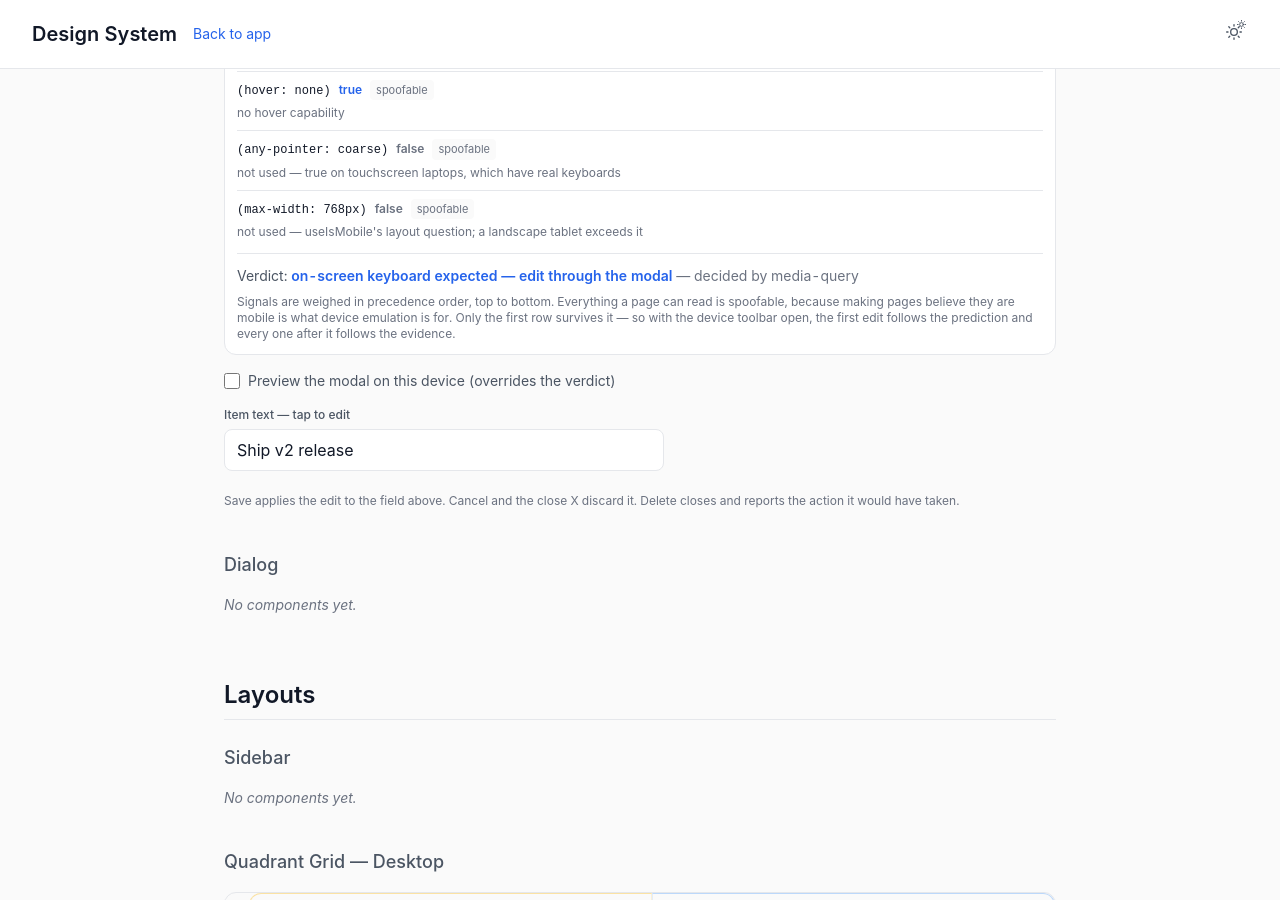
it: DesignSystem — Edit Modal gated on on-screen-keyboard detection › opens the modal where an on-screen keyboard is expected
(page scrolled)
Click the field labelled "Item text — tap to edit": coordinates (444, 450) [224,429,664,471]
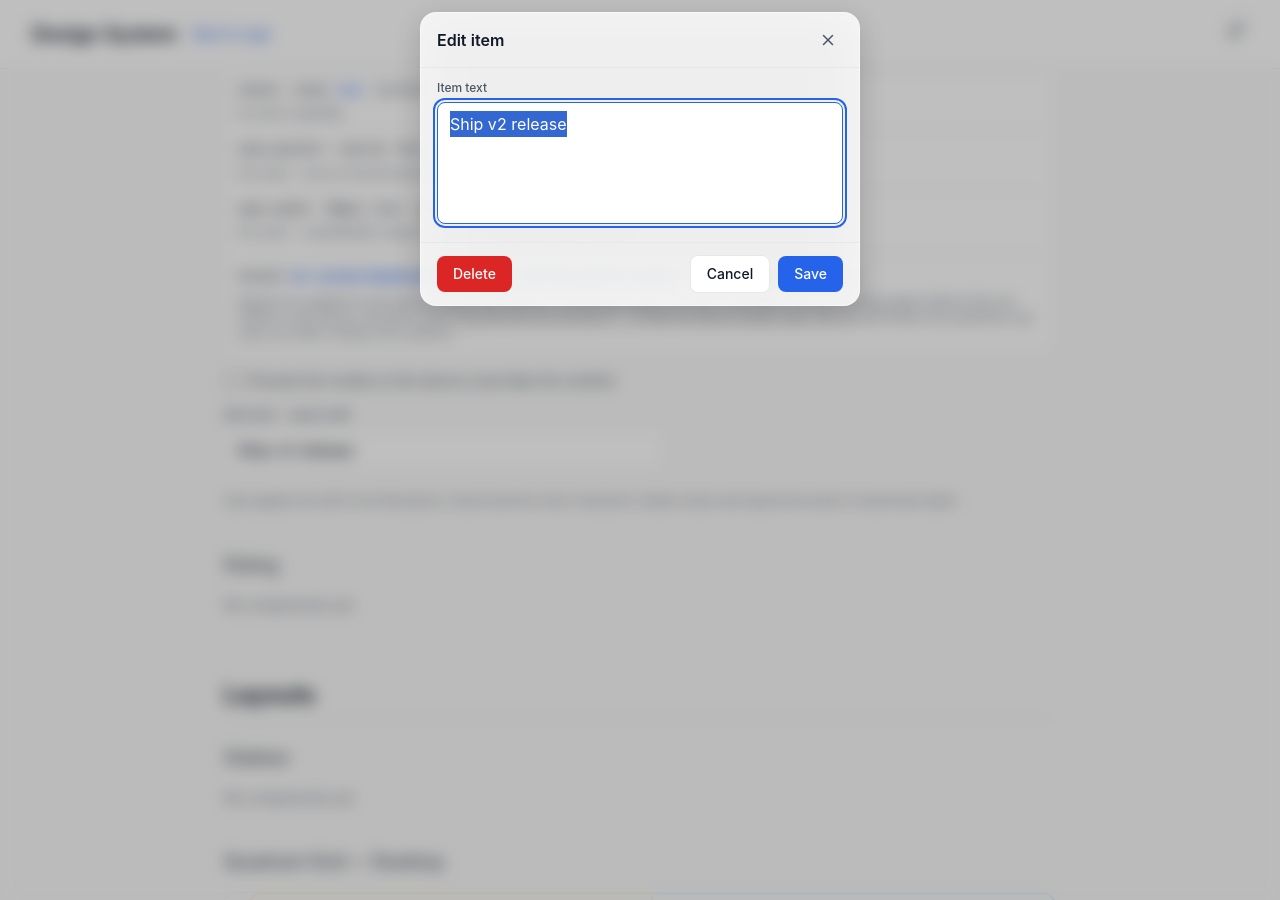
expect the dialog "Edit item" is shown: met, box [420,12,860,306]
